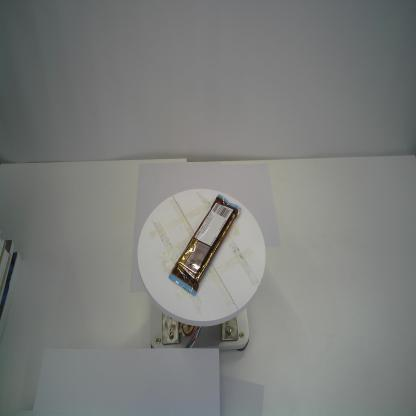Chocolate: (167, 192, 242, 296)
